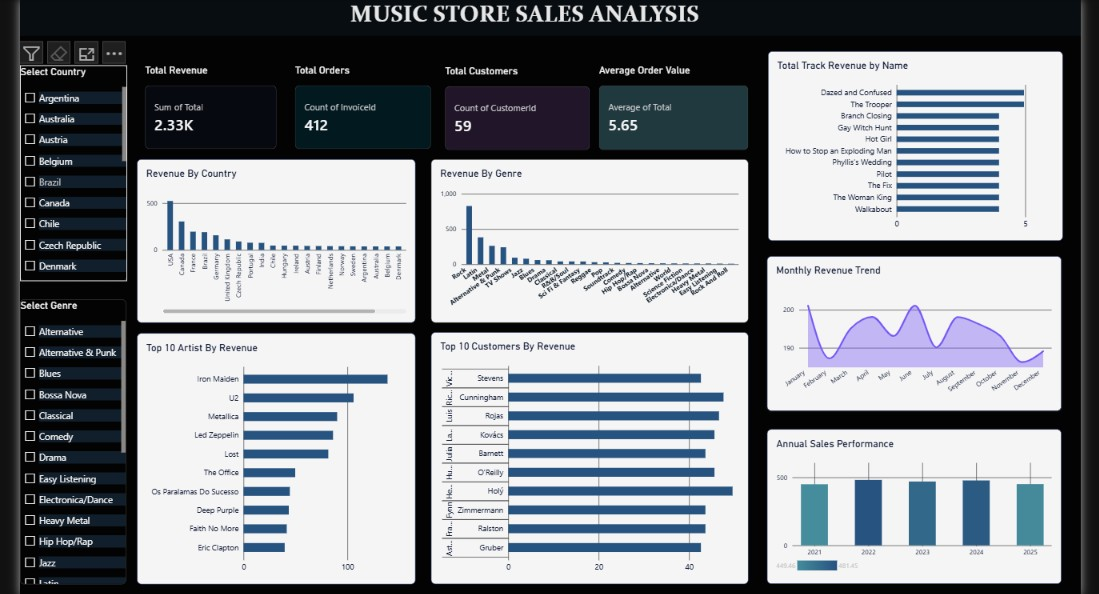

The page's visual inventory and layout, read from the dashboard file:
{"tool":"powerbi","page":{"name":"Page 1","canvas":[1920,1080],"ordinal":0},"visuals":[{"type":"cardVisual","title":"Total Revenue","fields":{"Data":["Sum(chinook invoice.Total)"]},"box":[226,118,238,154],"z":0},{"type":"cardVisual","title":"Total Orders","fields":{"Data":["CountNonNull(chinook invoice.InvoiceId)"]},"box":[498,118,246,154],"z":1000},{"type":"cardVisual","title":"Total Customers","fields":{"Data":["Count(chinook invoice.CustomerId)"]},"box":[770,120,262,154],"z":2000},{"type":"cardVisual","title":"Average Order Value","fields":{"Data":["Avg(chinook invoice.Total)"]},"box":[1048,118,270,156],"z":3000},{"type":"areaChart","title":"Monthly Revenue Trend","fields":{"Category":["chinook invoice.InvoiceDate.Variation.Date Hierarchy.Month"],"Y":["Sum(chinook invoice.Total)"]},"box":[1352.5,465,532.5,280],"z":4000},{"type":"clusteredColumnChart","title":"Revenue By Country","fields":{"Category":["chinook invoice.BillingCountry"],"Y":["Sum(chinook invoice.Total)"]},"box":[212,290,504,296],"z":5000},{"type":"clusteredColumnChart","title":"Revenue By Genre","fields":{"Category":["chinook genre.Name"],"Y":["chinook album.Total Track Revenue"]},"box":[744,290,574,296],"z":6000},{"type":"clusteredBarChart","title":"Top 10 Artist By Revenue","fields":{"Category":["chinook artist.Name"],"Y":["chinook album.Total Track Revenue"]},"box":[212,604,504,454],"z":7000},{"type":"clusteredBarChart","title":"Top 10 Customers By Revenue","fields":{"Category":["chinook customer.FirstName","chinook customer.LastName"],"Y":["chinook album.Total Track Revenue"]},"box":[744,602,574,456],"z":8000},{"type":"clusteredBarChart","fields":{"Category":["chinook track.Name"],"Y":["chinook album.Total Track Revenue"]},"box":[1353.3,93.3,533.3,343.3],"z":9000},{"type":"clusteredColumnChart","title":"Annual Sales Performance","fields":{"Category":["chinook invoice.InvoiceDate.Variation.Date Hierarchy.Year"],"Y":["Sum(chinook invoice.Total)"]},"box":[1352.5,777.5,532.5,280],"z":10000},{"type":"slicer","title":"Select Country","fields":{"Values":["chinook invoice.BillingCountry"]},"box":[0,120,193.3,390],"z":11000},{"type":"slicer","title":"Select Genre","fields":{"Values":["chinook genre.Name"]},"box":[0,542,192,516],"z":12000},{"type":"textbox","box":[0,0,1920,66.7],"z":13000}]}

Visuals, with their boxes in screenshot pixels (x1, y1, x2, y2):
"Total Revenue" cardVisual: select_region(151, 70, 281, 154)
"Total Orders" cardVisual: select_region(299, 70, 433, 154)
"Total Customers" cardVisual: select_region(447, 71, 590, 155)
"Average Order Value" cardVisual: select_region(598, 70, 745, 155)
"Monthly Revenue Trend" areaChart: select_region(764, 258, 1053, 411)
"Revenue By Country" clusteredColumnChart: select_region(144, 163, 418, 324)
"Revenue By Genre" clusteredColumnChart: select_region(433, 163, 745, 324)
"Top 10 Artist By Revenue" clusteredBarChart: select_region(144, 334, 418, 581)
"Top 10 Customers By Revenue" clusteredBarChart: select_region(433, 333, 745, 581)
clusteredBarChart - chinook track.Name x chinook album.Total Track Revenue: select_region(764, 56, 1054, 243)
"Annual Sales Performance" clusteredColumnChart: select_region(764, 428, 1053, 581)
"Select Country" slicer: select_region(29, 71, 134, 283)
"Select Genre" slicer: select_region(29, 300, 133, 581)
textbox: select_region(29, 6, 1072, 42)
